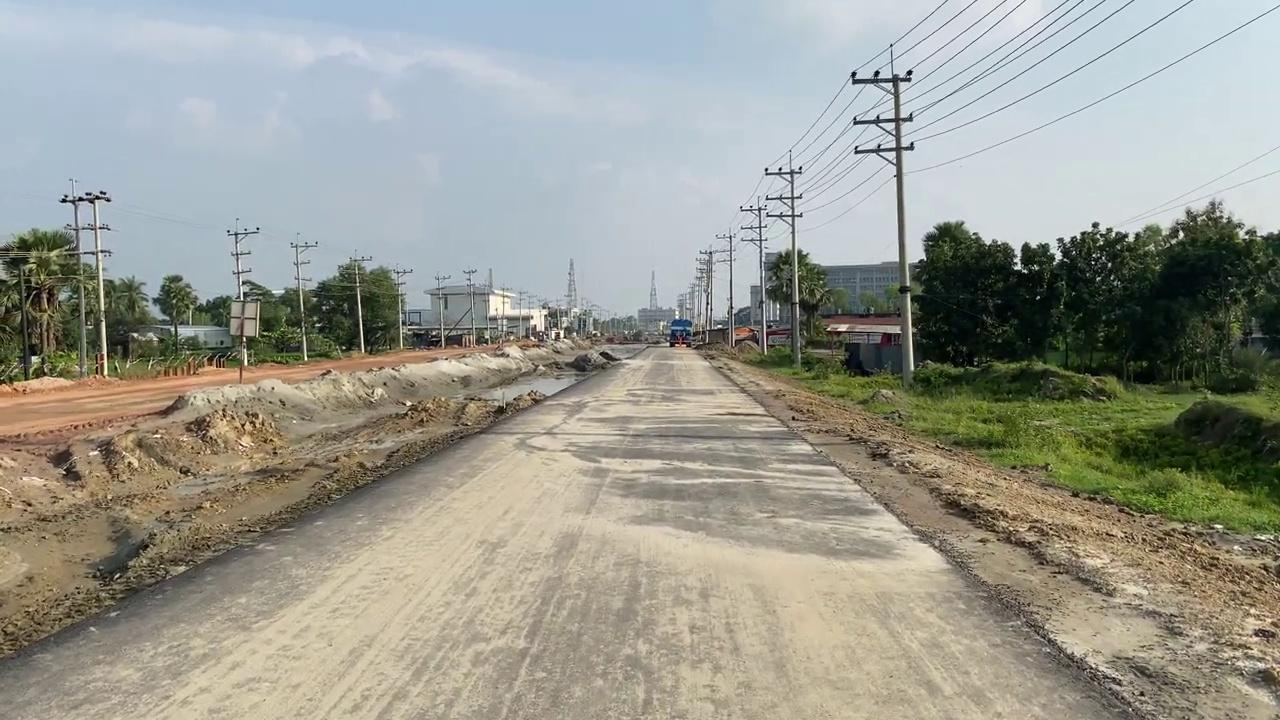Garbage: (1, 333, 621, 658)
Muddy road: (1, 338, 470, 720)
Obstacle: (824, 319, 908, 376)
Pole: (850, 45, 917, 388), (763, 149, 803, 368), (226, 217, 259, 373), (348, 251, 371, 353)
Rickshaw: (243, 344, 1279, 714)
Traffic-sign: (0, 226, 97, 377), (763, 246, 832, 364), (151, 273, 197, 355)
Tree: (108, 323, 235, 360), (667, 317, 693, 347), (732, 325, 758, 347)
